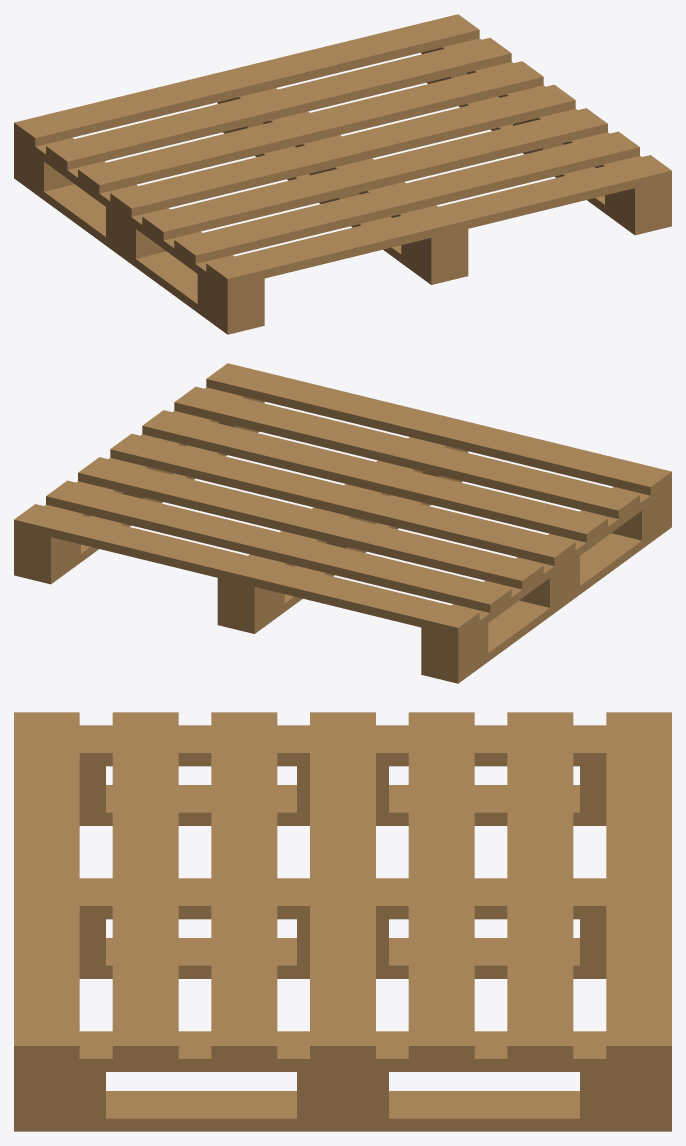
File: plant.store.pallet.glb
3 views of the same model, one above another, from view 1: azimuth 30°, elevation 25°; view 2: azimuth 150°, elevation 25°; view 3: azimuth 270°, elevation 25° (orthographic). The views are drawn at different scales.
Parts seen in each view (by area): view 1: main__softwood; view 2: main__softwood; view 3: main__softwood.
Part boxes in pixels (x1,y1,x2,y2): main__softwood: [14, 14, 671, 334]; main__softwood: [14, 363, 671, 683]; main__softwood: [14, 712, 671, 1131].
Bounding box in the file's own units: 1.2 × 0.144 × 1.
